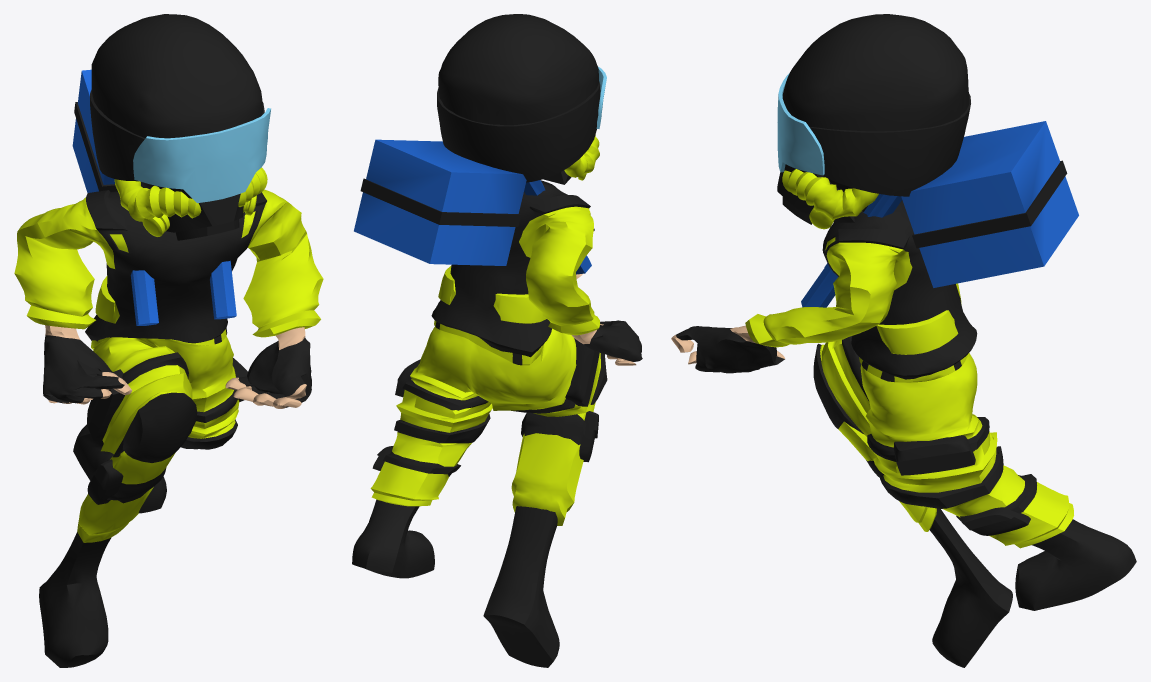
The model's file is av-ciclista-urbano.glb.
The picture shows the model from 3 angles, left to right: view 1: azimuth 30°, elevation 25°; view 2: azimuth 150°, elevation 25°; view 3: azimuth 270°, elevation 25°; orthographic projection. The views are drawn at different scales.
Visible parts, largest first — view 1: Ad_mochila_entrega_0_0; view 2: Ad_mochila_entrega_0_0; view 3: Ad_mochila_entrega_0_0.
Boxes of the visible parts, x1=… form: Ad_mochila_entrega_0_0: x1=14, y1=14, x2=323, y2=667; Ad_mochila_entrega_0_0: x1=352, y1=14, x2=642, y2=667; Ad_mochila_entrega_0_0: x1=671, y1=14, x2=1136, y2=667.
Bounding box in the file's own units: 0.6294 × 1.54 × 0.9698.
Materials: 1 (1 with a texture image).
